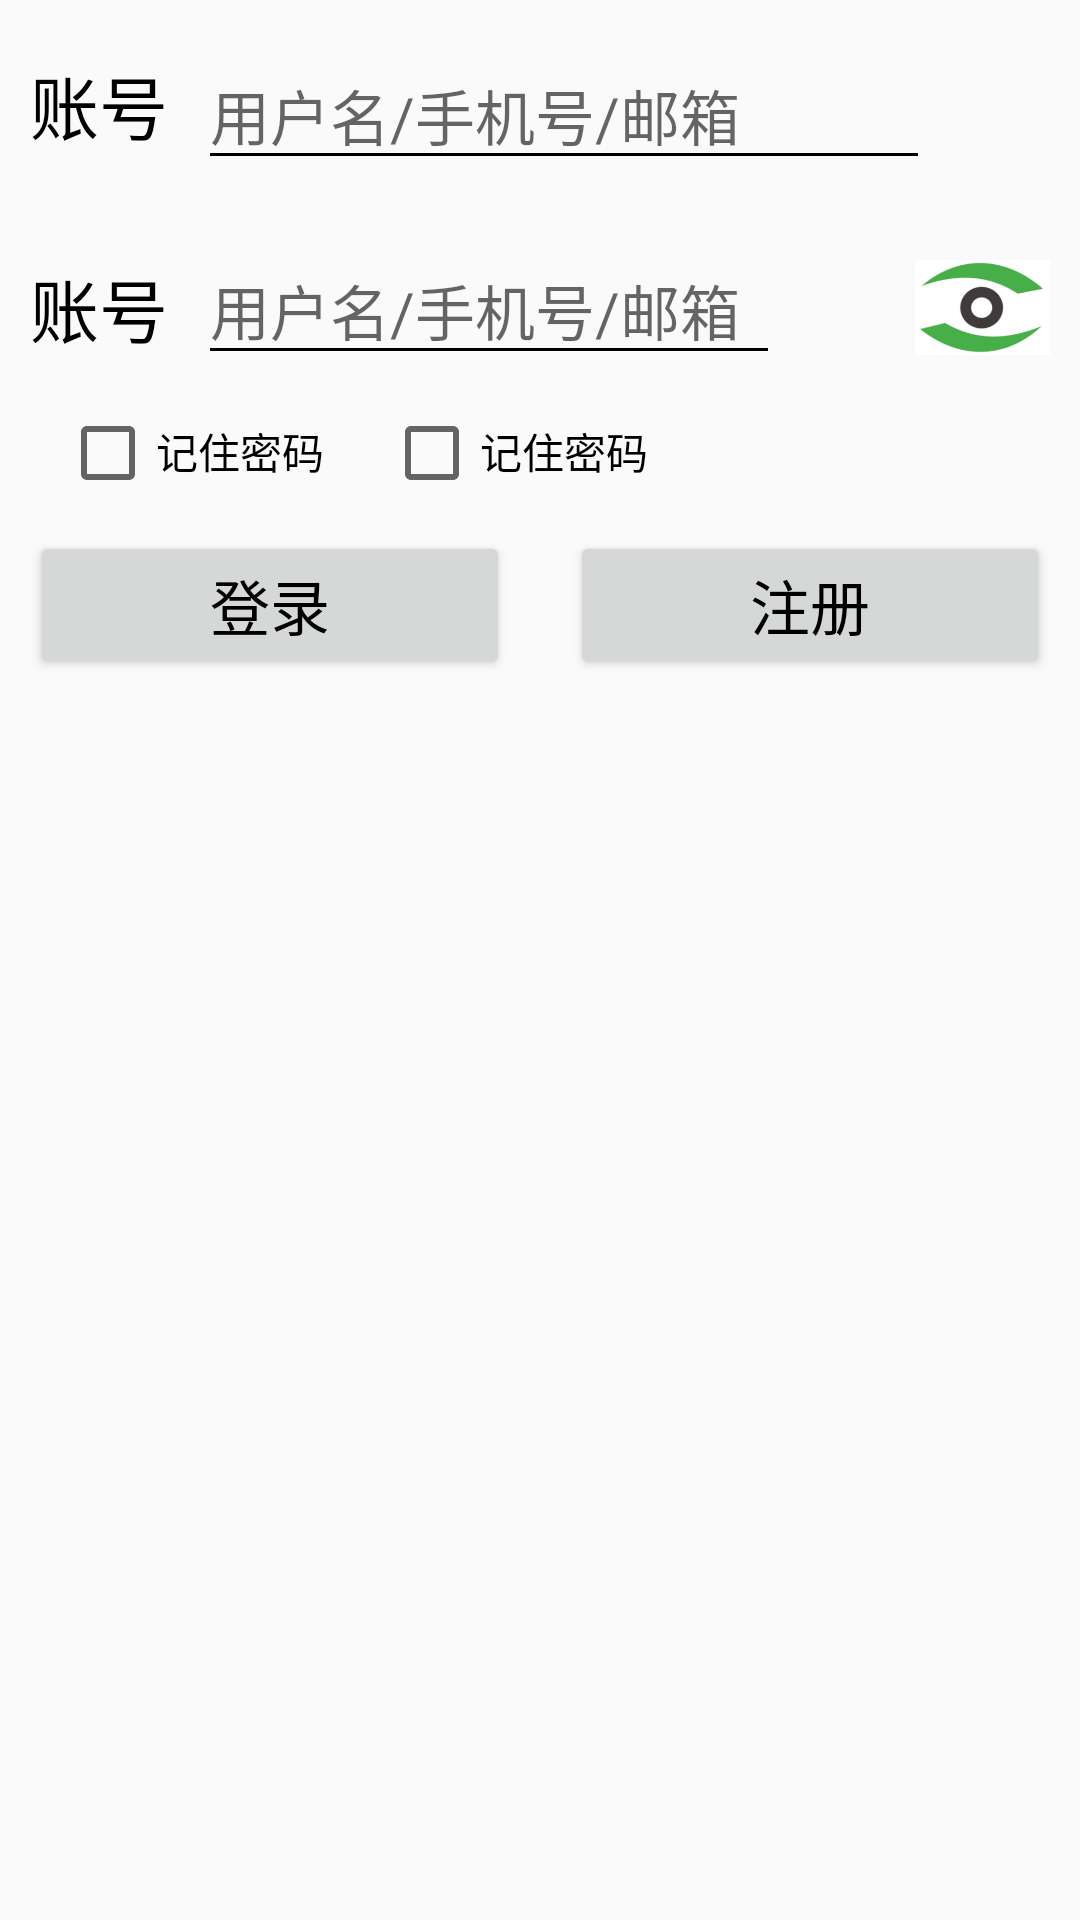

Named icons in this screenshot (1080*1920) and their centers, (x=x, y=y):
no hide: (x=981, y=307)
